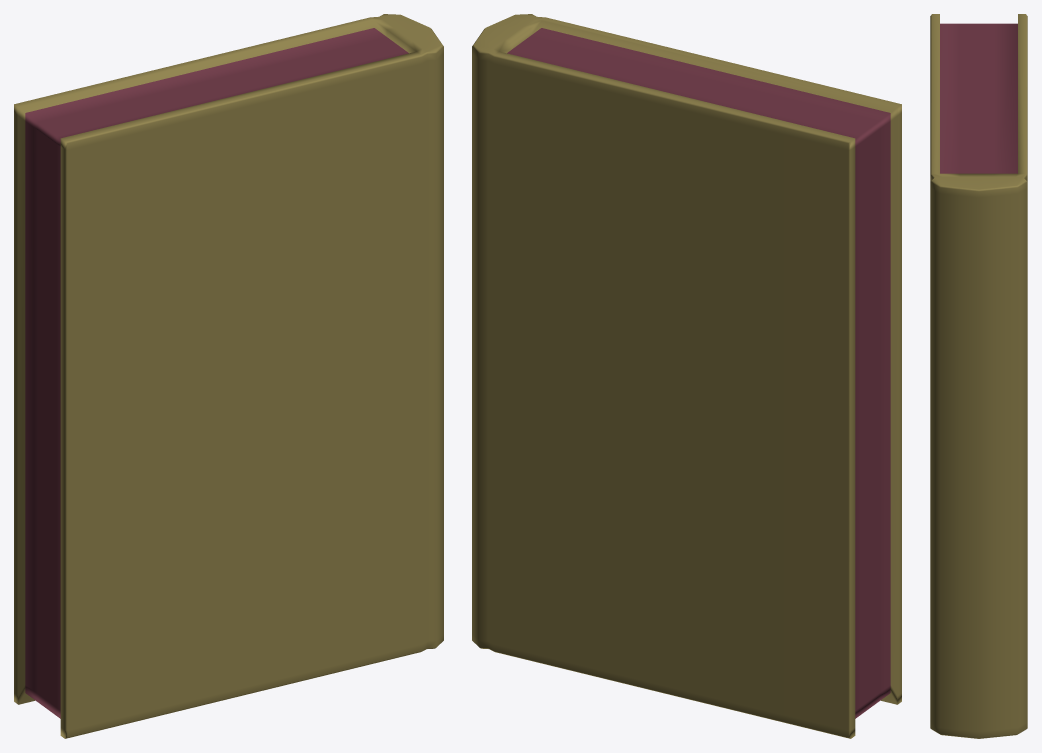
File: libro.fbx
3 views of the same model, side by side, from view 1: azimuth 30°, elevation 25°; view 2: azimuth 150°, elevation 25°; view 3: azimuth 270°, elevation 25° (orthographic). The views are drawn at different scales.
Visible parts, largest first — view 1: pCube16; view 2: pCube16; view 3: pCube16.
Part boxes in pixels (x1,y1,x2,y2): pCube16: [14, 14, 443, 738]; pCube16: [472, 14, 901, 738]; pCube16: [930, 14, 1027, 738].
Bounding box in the file's own units: 80.07 × 117 × 18.68.
